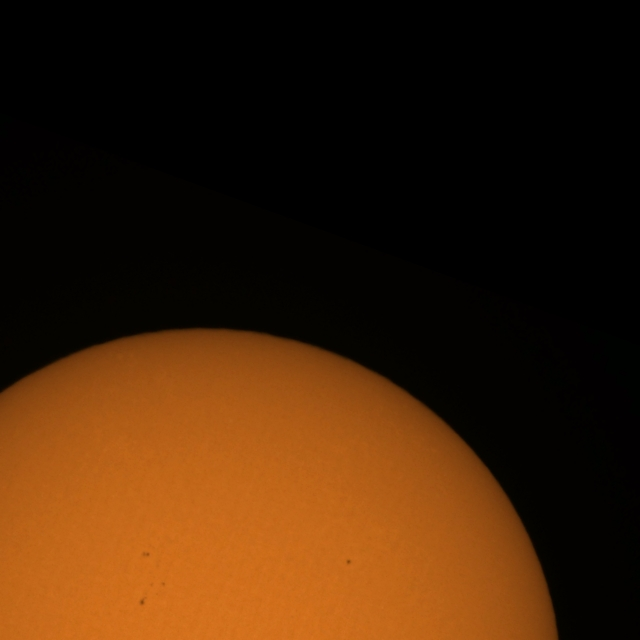sunspot: (139, 583, 163, 607), (138, 596, 147, 606), (141, 550, 151, 558), (345, 558, 352, 566)
